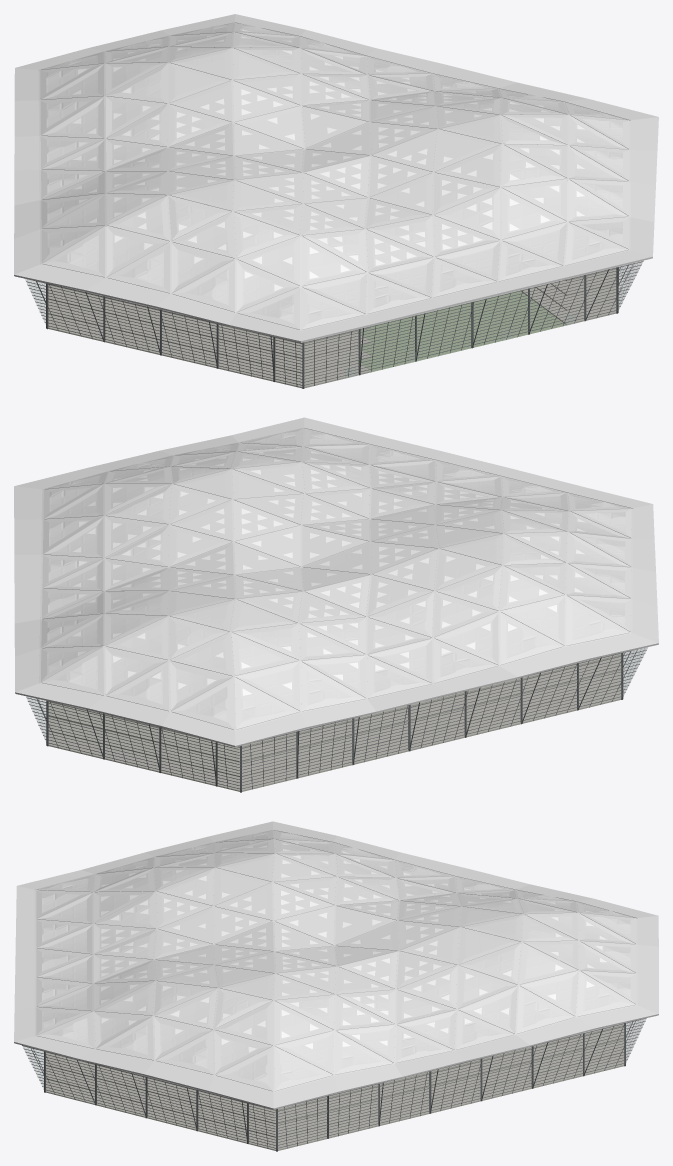
Rendered from voyager.glb.
3 renders of one model, top to bottom at view 1: azimuth 30°, elevation 25°; view 2: azimuth 150°, elevation 25°; view 3: azimuth 270°, elevation 25°, orthographic. The views are drawn at different scales.
Parts seen in each view (by area): view 1: roof, FACADE, SITE, FLOOR_Plate_L01, FLOOR_Plate_L02, FLOOR_Plate_L03, STRUCTURE, FLOOR_Plate_L04; view 2: roof, FACADE, FLOOR_Plate_L01, FLOOR_Plate_L03, FLOOR_Plate_L02, STRUCTURE, FLOOR_Plate_L04; view 3: roof, FACADE, FLOOR_Plate_L01, FLOOR_Plate_L03, FLOOR_Plate_L02, STRUCTURE, FLOOR_Plate_L04.
Boxes of the visible parts, bbox=[...] form: roof: bbox=[14, 14, 658, 342]; FACADE: bbox=[25, 261, 643, 387]; SITE: bbox=[49, 290, 613, 388]; FLOOR_Plate_L01: bbox=[48, 268, 619, 388]; FLOOR_Plate_L02: bbox=[48, 283, 616, 373]; FLOOR_Plate_L03: bbox=[48, 269, 616, 358]; STRUCTURE: bbox=[36, 264, 628, 388]; FLOOR_Plate_L04: bbox=[48, 267, 616, 344]; roof: bbox=[14, 417, 658, 747]; FACADE: bbox=[26, 647, 647, 791]; FLOOR_Plate_L01: bbox=[48, 685, 621, 791]; FLOOR_Plate_L03: bbox=[48, 656, 621, 762]; FLOOR_Plate_L02: bbox=[48, 670, 621, 776]; STRUCTURE: bbox=[36, 651, 630, 792]; FLOOR_Plate_L04: bbox=[48, 653, 621, 747]; roof: bbox=[14, 821, 658, 1109]; FACADE: bbox=[22, 1018, 646, 1150]; FLOOR_Plate_L01: bbox=[46, 1053, 624, 1150]; FLOOR_Plate_L03: bbox=[46, 1026, 624, 1124]; FLOOR_Plate_L02: bbox=[46, 1039, 624, 1137]; STRUCTURE: bbox=[31, 1022, 632, 1151]; FLOOR_Plate_L04: bbox=[46, 1023, 624, 1110].
Bounding box in the file's own units: 245 × 38.08 × 233.
